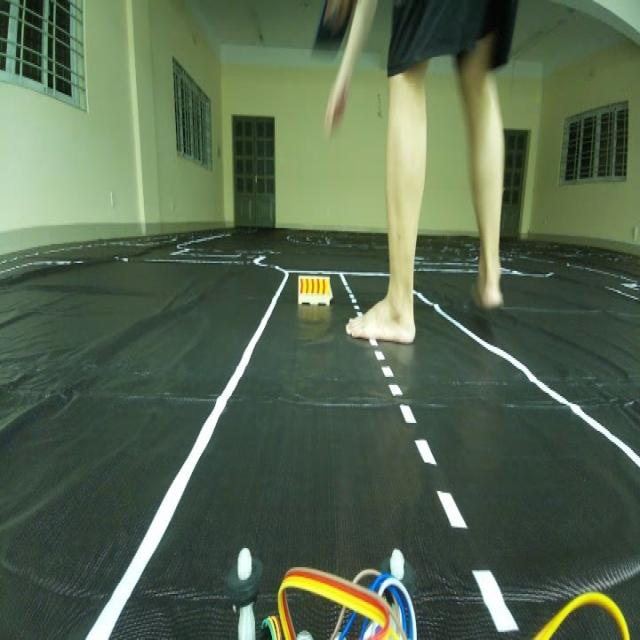roadblock: (286, 264, 339, 314)
